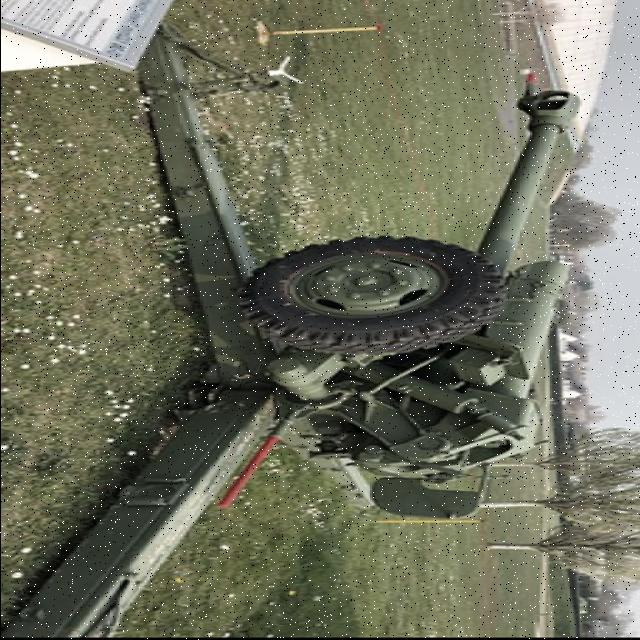ART: (1, 19, 586, 640)
